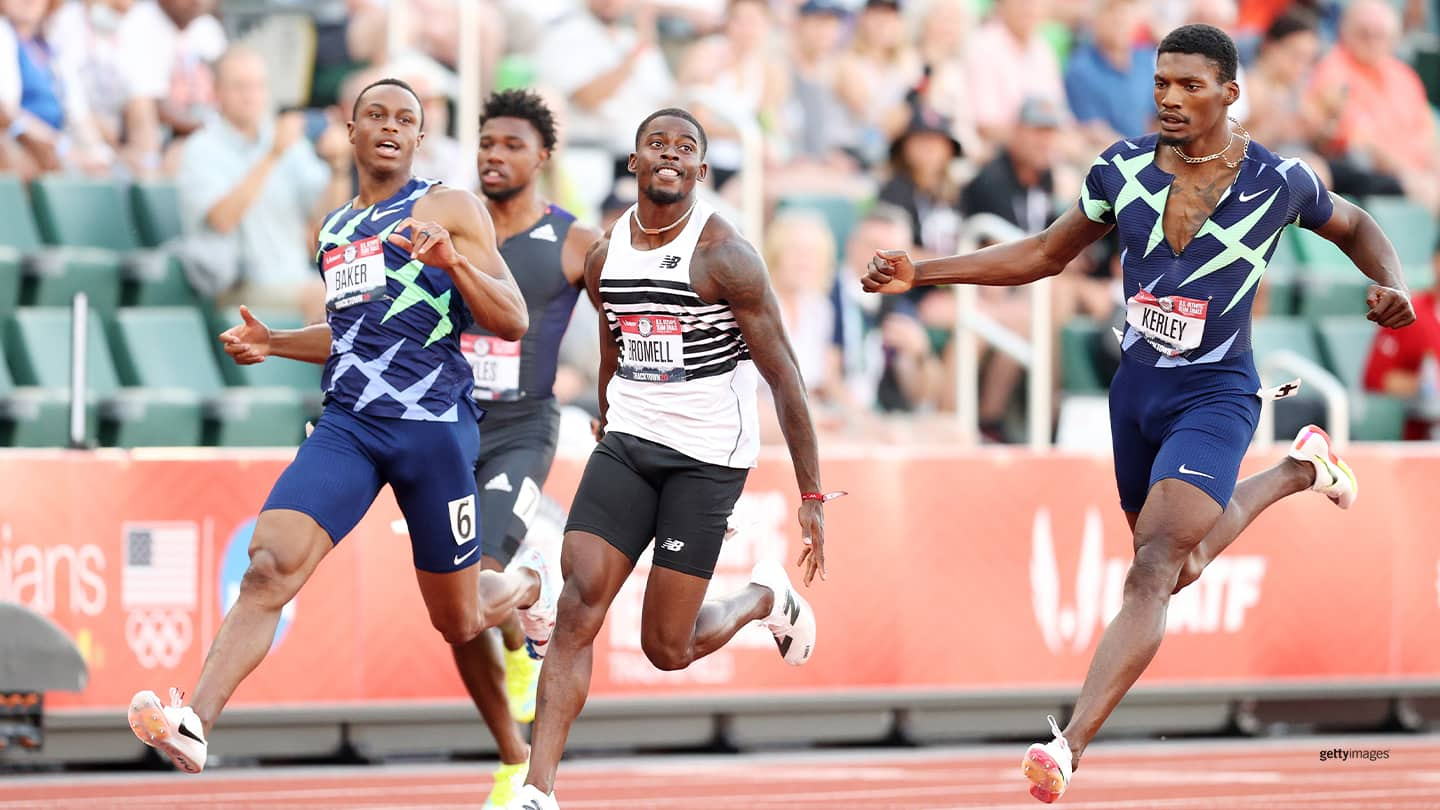runner: (859, 24, 1419, 805), (130, 74, 554, 776), (531, 108, 836, 801), (463, 78, 609, 660)
